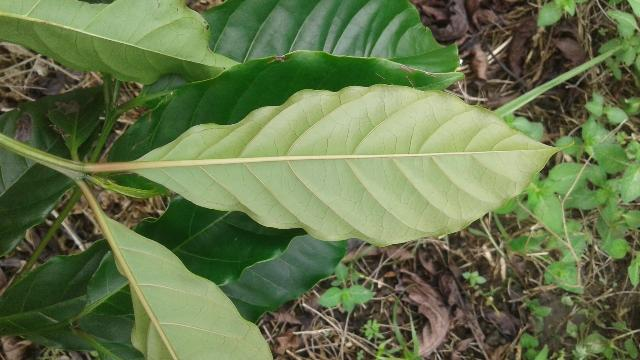healthy: (134, 86, 571, 248)
